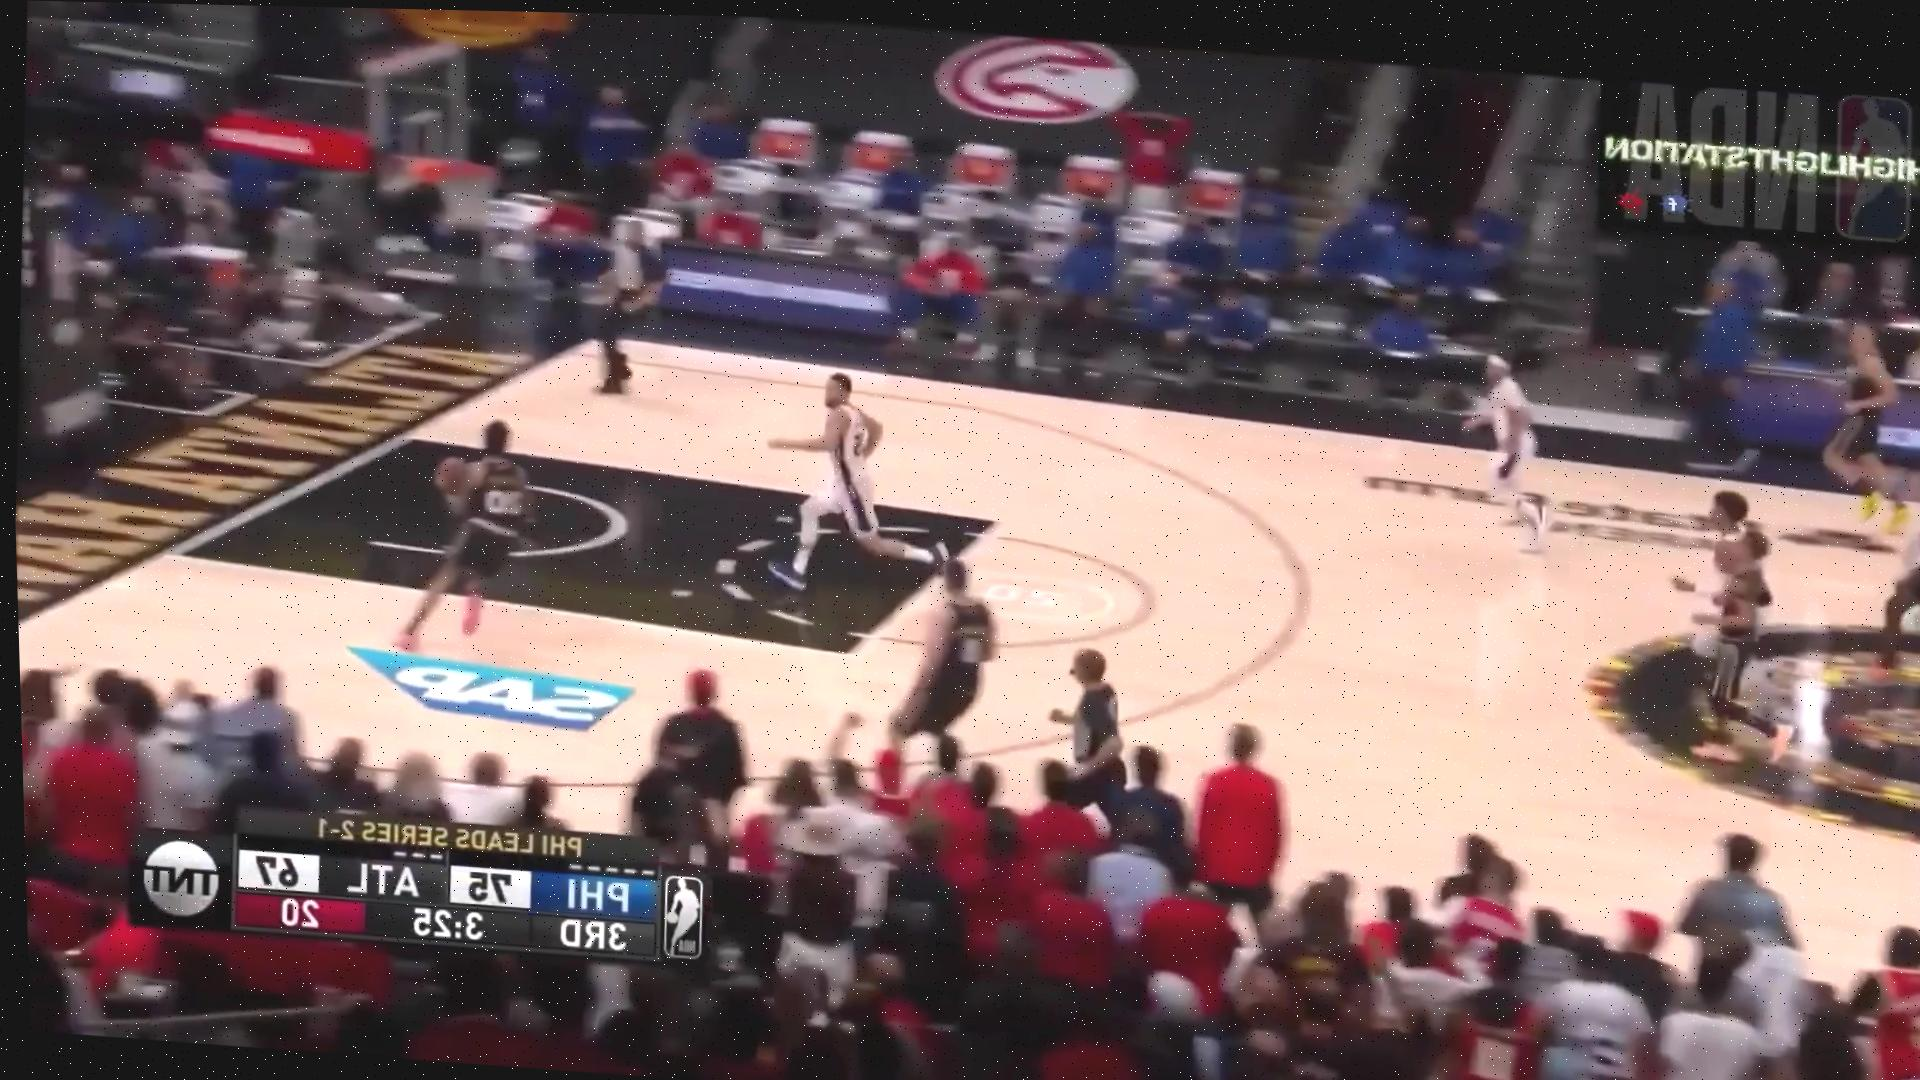no_foul: (1626, 480, 1811, 781)
